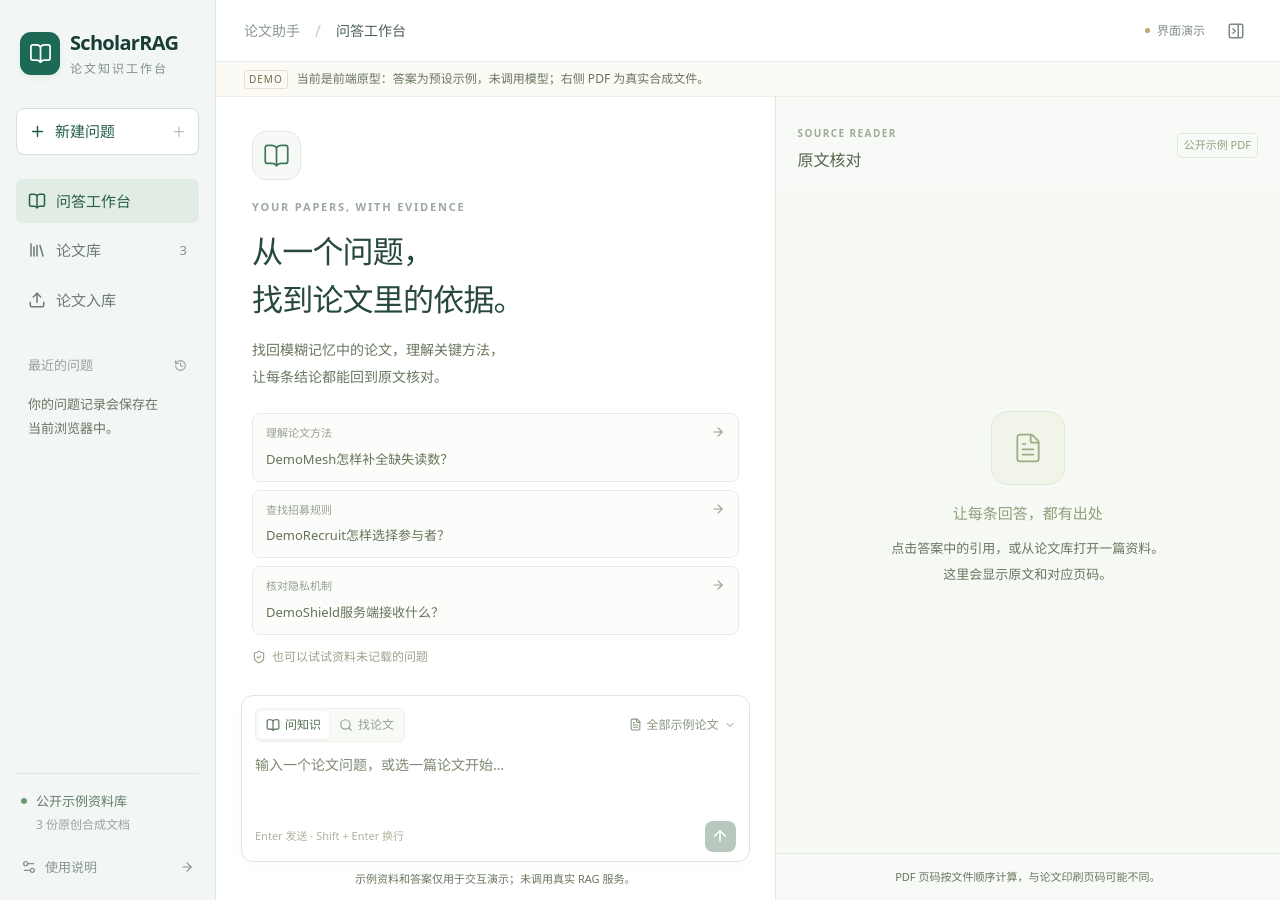
Test: workspace request lifecycle › keeps actual upload disabled
Click the button "论文入库".
click(108, 300)  # box [16,278,199,322]
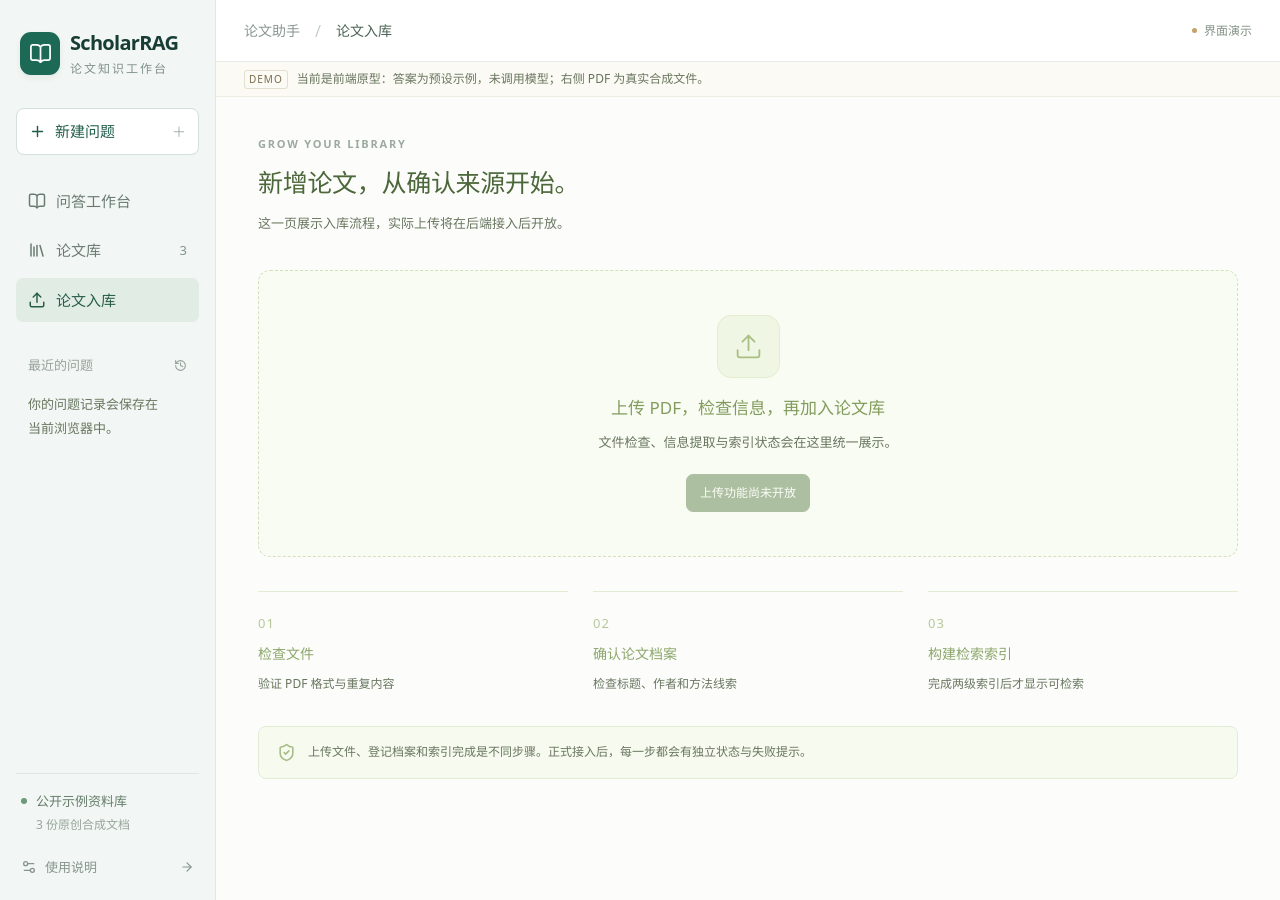
Now the button "上传功能尚未开放" is disabled, box [686,474,810,512]
